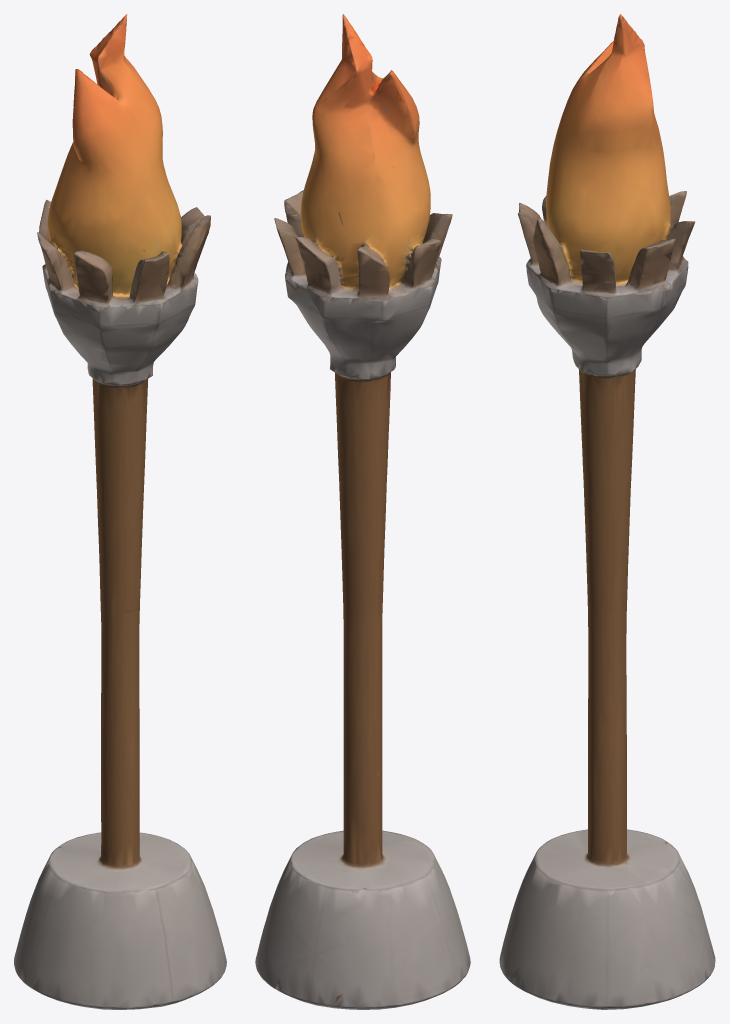
The model's file is Torch.fbx.
The picture shows the model from 3 angles, left to right: view 1: azimuth 30°, elevation 25°; view 2: azimuth 150°, elevation 25°; view 3: azimuth 270°, elevation 25°; orthographic projection.
Visible parts, largest first — view 1: Mesh_0; view 2: Mesh_0; view 3: Mesh_0.
Part boxes in pixels (<box>): Mesh_0: <box>14,14,226,1009</box>; Mesh_0: <box>255,14,470,1009</box>; Mesh_0: <box>499,14,715,1009</box>.
Bounding box in the file's own units: 20.26 × 100 × 20.27.
1 material, 1 textured.
